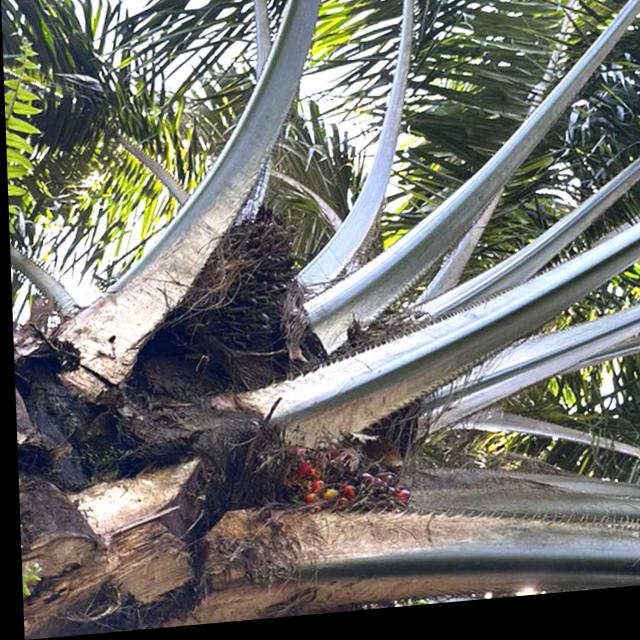almost: (155, 207, 306, 395)
